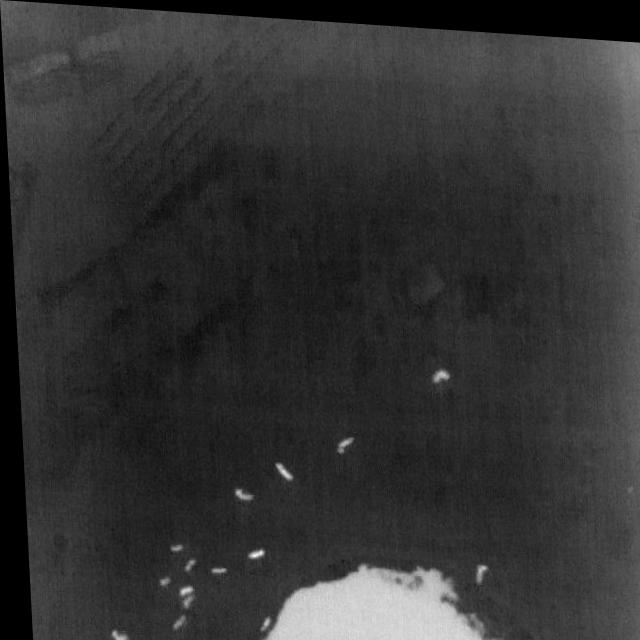deer: (269, 458, 289, 477), (427, 361, 447, 379), (331, 431, 350, 449), (469, 557, 484, 579), (229, 483, 249, 498), (166, 612, 181, 629), (241, 545, 261, 557), (176, 591, 190, 608), (253, 612, 266, 630), (104, 629, 122, 640), (173, 582, 188, 595), (178, 556, 191, 570), (152, 573, 165, 584), (164, 541, 178, 551), (205, 564, 221, 572)
